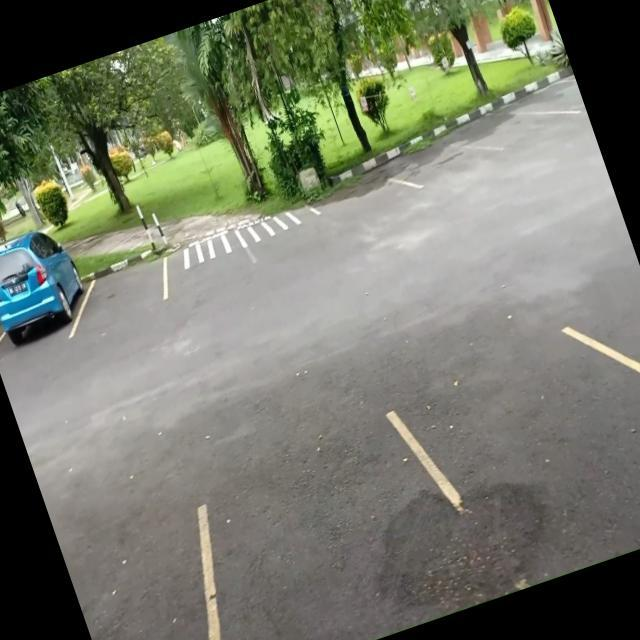empty: (389, 304, 640, 609), (167, 401, 469, 640), (54, 238, 177, 338)
occupied: (0, 256, 99, 362)
